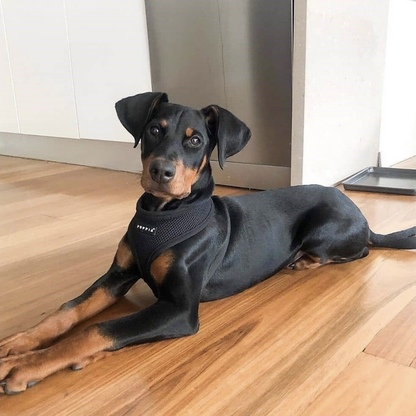doberman: (3, 90, 412, 402)
